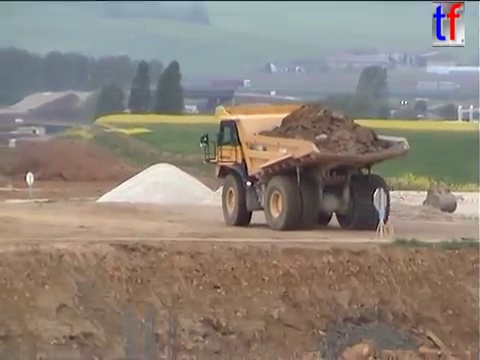truck: (198, 102, 414, 233)
